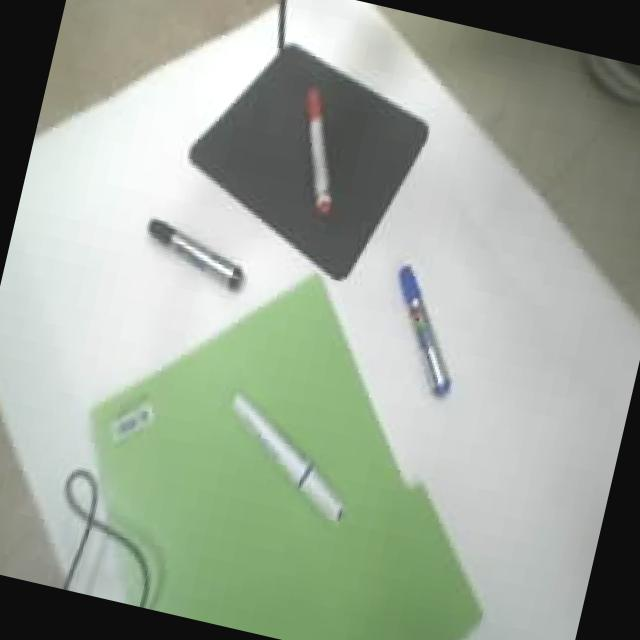board-marker: (233, 393, 343, 521), (147, 218, 243, 287), (399, 263, 449, 393), (305, 85, 331, 214)
